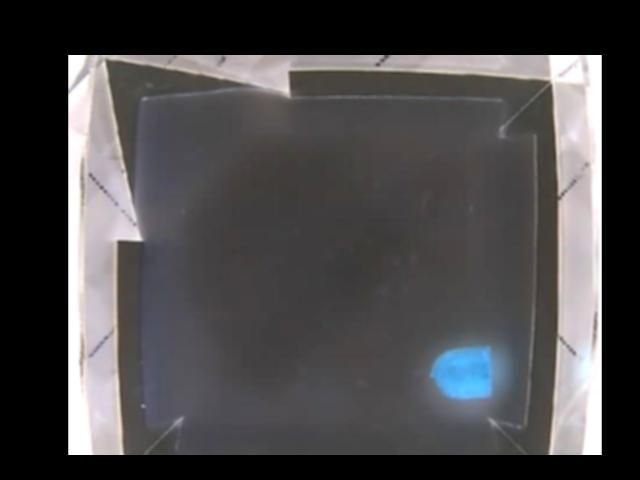Carrot: (431, 346, 495, 399)
